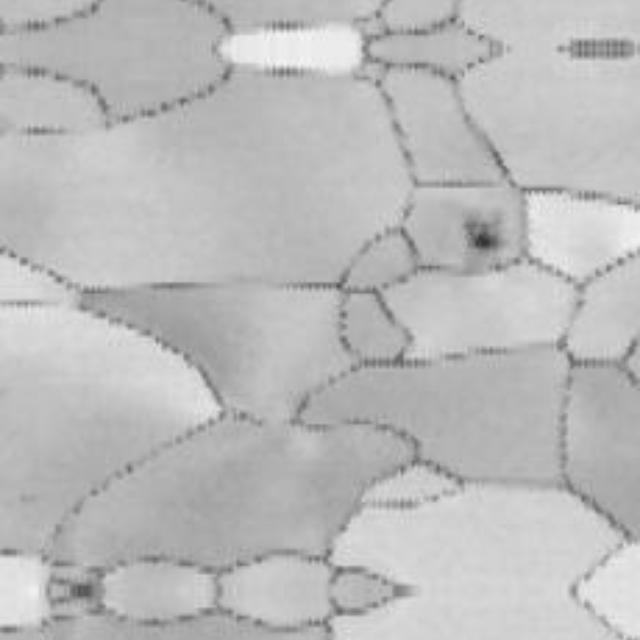good_void: (456, 212, 504, 260)
